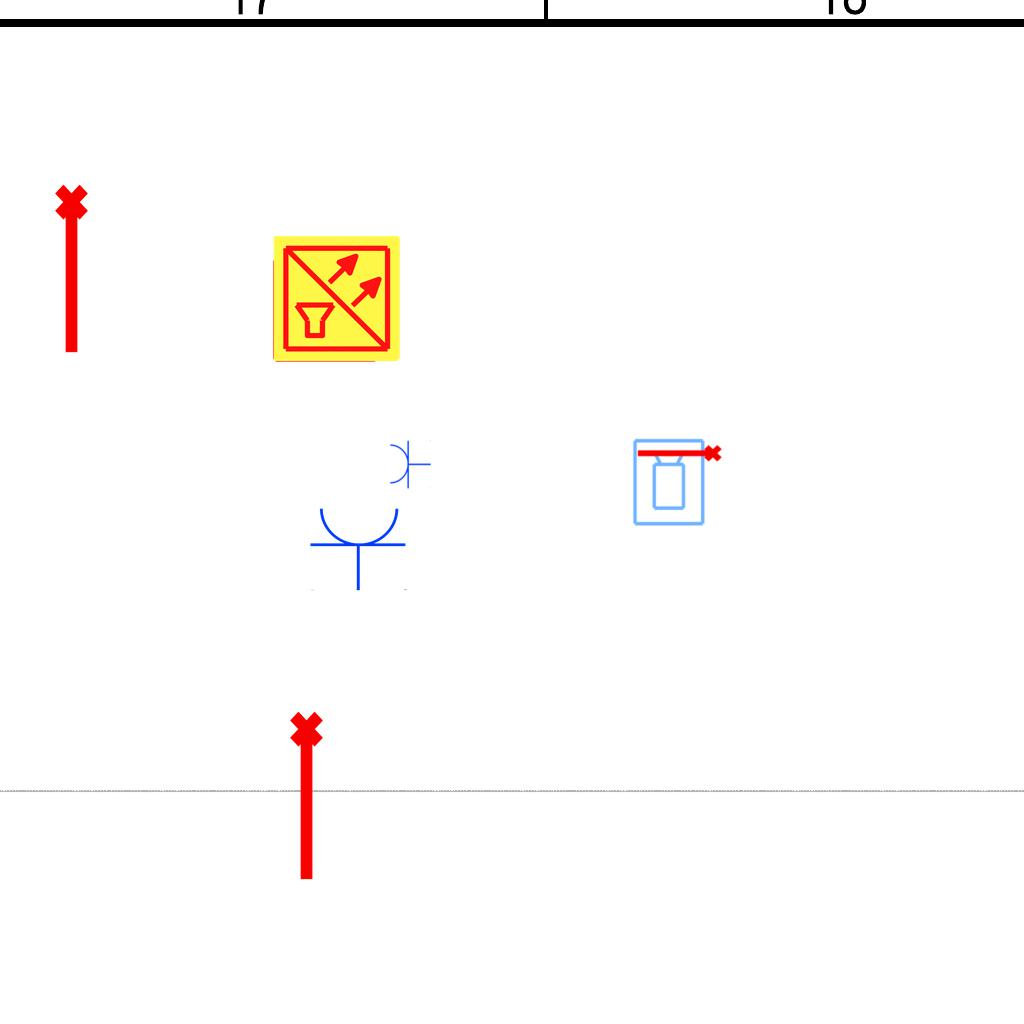ASR_Ansaugoeffnung: (51, 182, 97, 358), (286, 709, 332, 885), (635, 443, 723, 466)
KFO_Kamera_mit_Festobjektiv: (631, 437, 708, 528)
OKW_Multisensormelder_(Kombination_optischer_Rauch-Kahlenmonoxid_Waerme-Melder): (271, 233, 403, 365)
Schukosteckdose_einfach: (309, 504, 409, 591), (388, 439, 431, 489)
